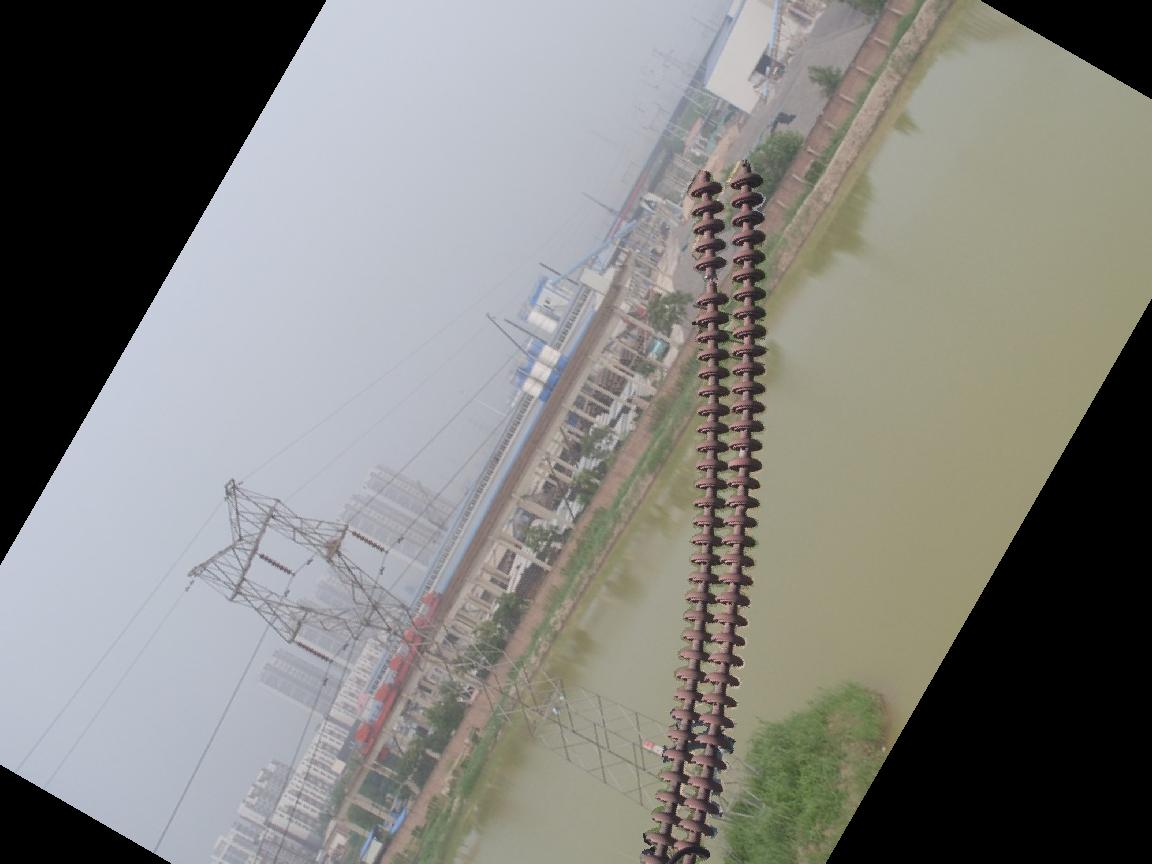insulator: (633, 167, 771, 864), (293, 638, 335, 668), (254, 549, 295, 579), (347, 529, 386, 556)
insulator_stringdrop: (691, 252, 732, 312)
